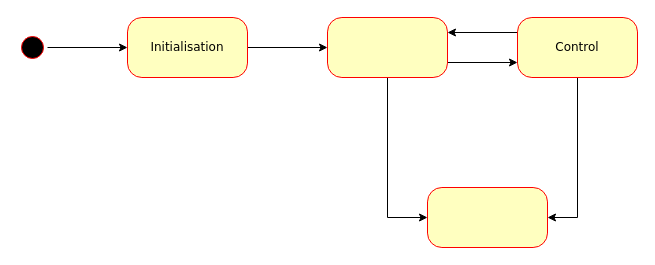
This 655x265 diagram has some shape labels left out. The box of each missing label's shape, as (x1, y1, x2, y2) in pixels:
Fault: (426, 186, 548, 248)
Idle: (326, 16, 448, 78)
